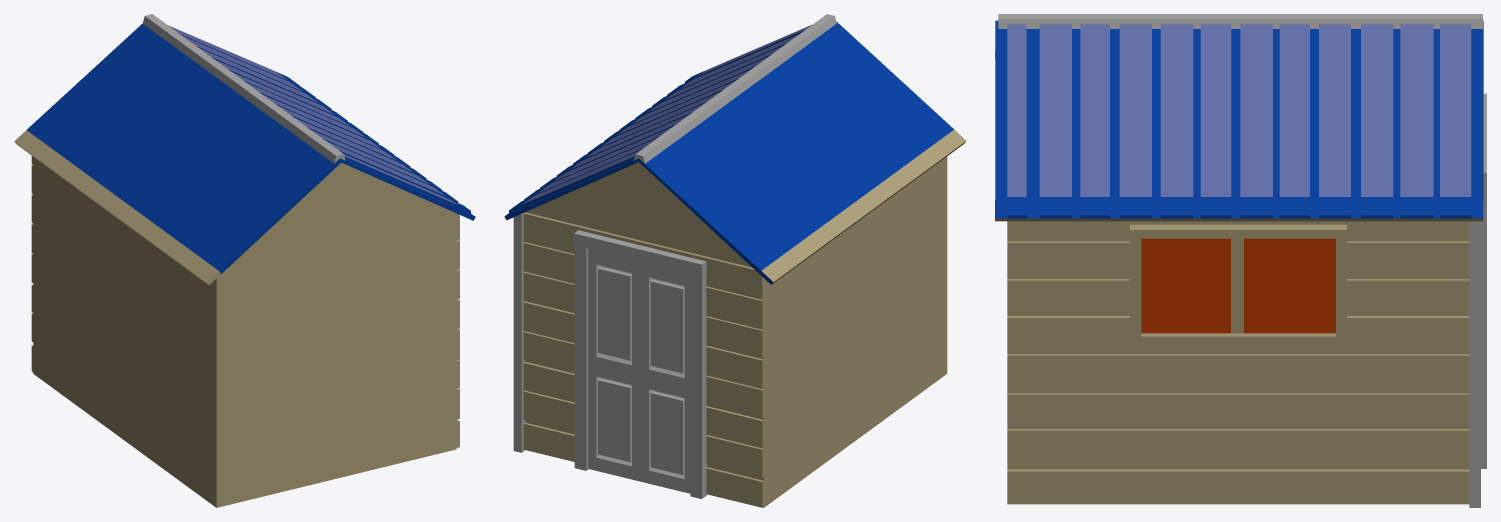
Rendered from House.fbx.
The picture shows the model from 3 angles, left to right: view 1: azimuth 30°, elevation 25°; view 2: azimuth 150°, elevation 25°; view 3: azimuth 270°, elevation 25°; orthographic projection. The views are drawn at different scales.
Visible parts, largest first — view 1: pCube48, pCube55; view 2: pCube48, metrics1, pCube53, pCube55, pCube52, pCube50, pCube54; view 3: pCube48, pCube49, pCube55, pCube50, pCube52.
Boxes of the visible parts, x1,y1,x2,y2 form: pCube48: (14, 23, 475, 507); pCube55: (142, 14, 345, 163); pCube48: (504, 21, 966, 507); metrics1: (588, 249, 690, 493); pCube53: (690, 273, 706, 498); pCube55: (633, 14, 836, 163); pCube52: (574, 245, 588, 470); pCube50: (513, 212, 525, 452); pCube54: (574, 230, 706, 276); pCube48: (995, 20, 1483, 504); pCube49: (1130, 224, 1346, 345); pCube55: (998, 14, 1482, 28); pCube50: (1469, 221, 1480, 507); pCube52: (1481, 188, 1486, 468).
Bounding box in the file's own units: 9.79 × 11.37 × 12.25.
